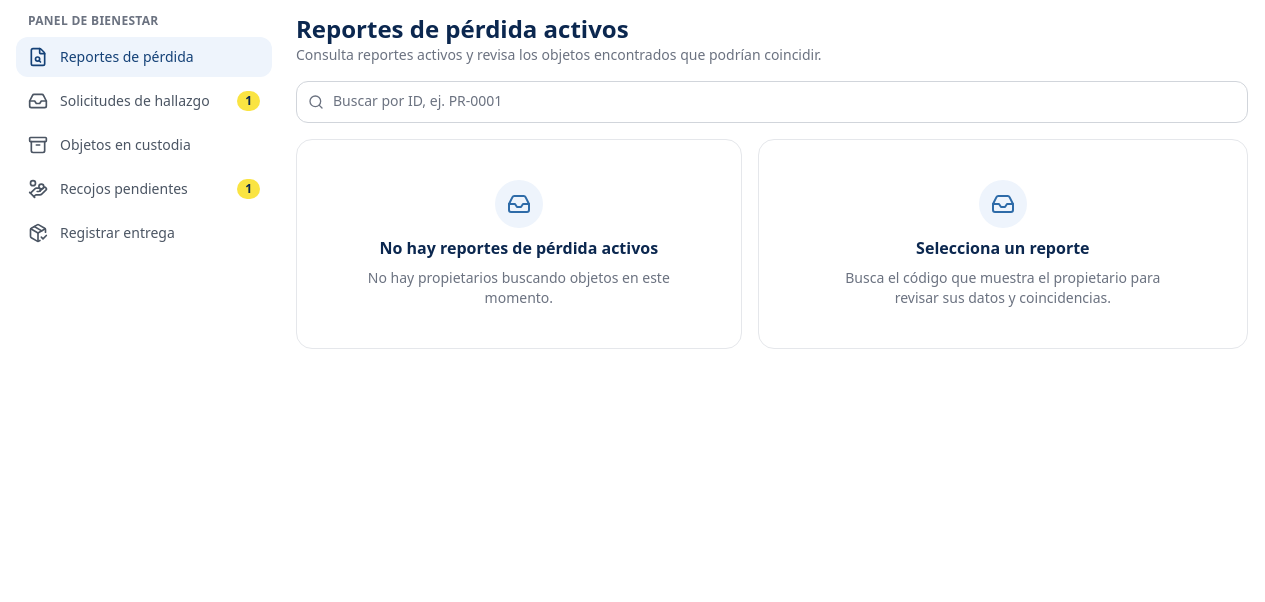
Scenario: Panel de Bienestar › inicia una entrega desde un recojo y precarga objeto reporte y propietario
Click the button "Recojos pendientes 1" at (144, 189), box [16, 169, 272, 209]
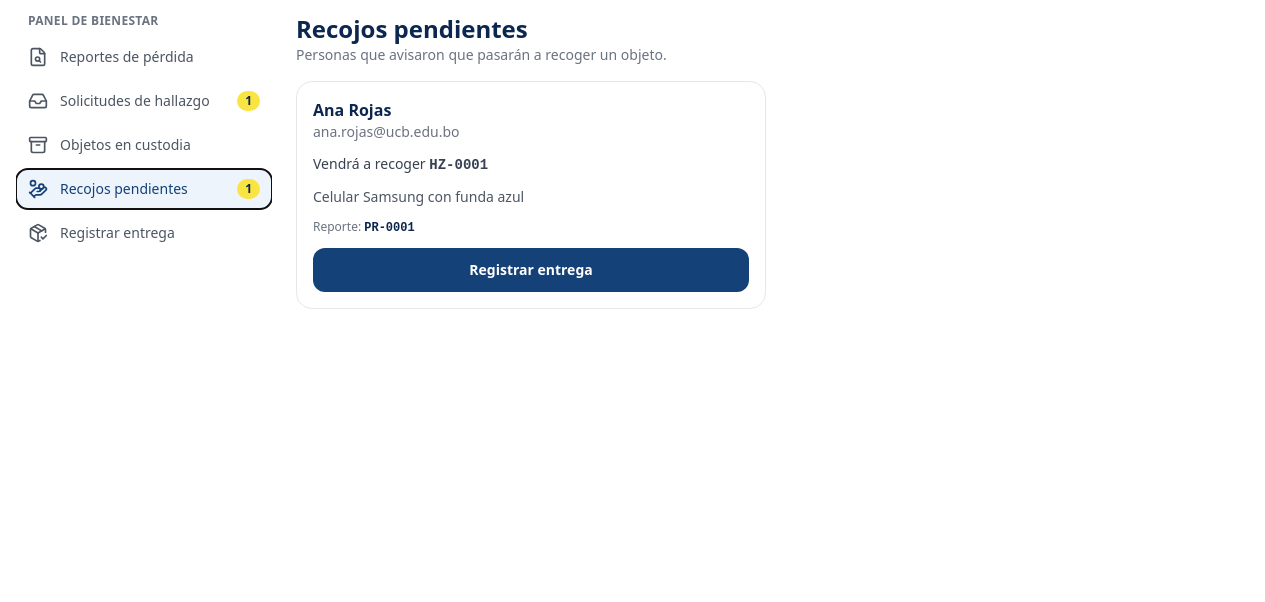
Click the button "Registrar entrega" below "Reporte:" at (531, 270), box [313, 248, 749, 292]
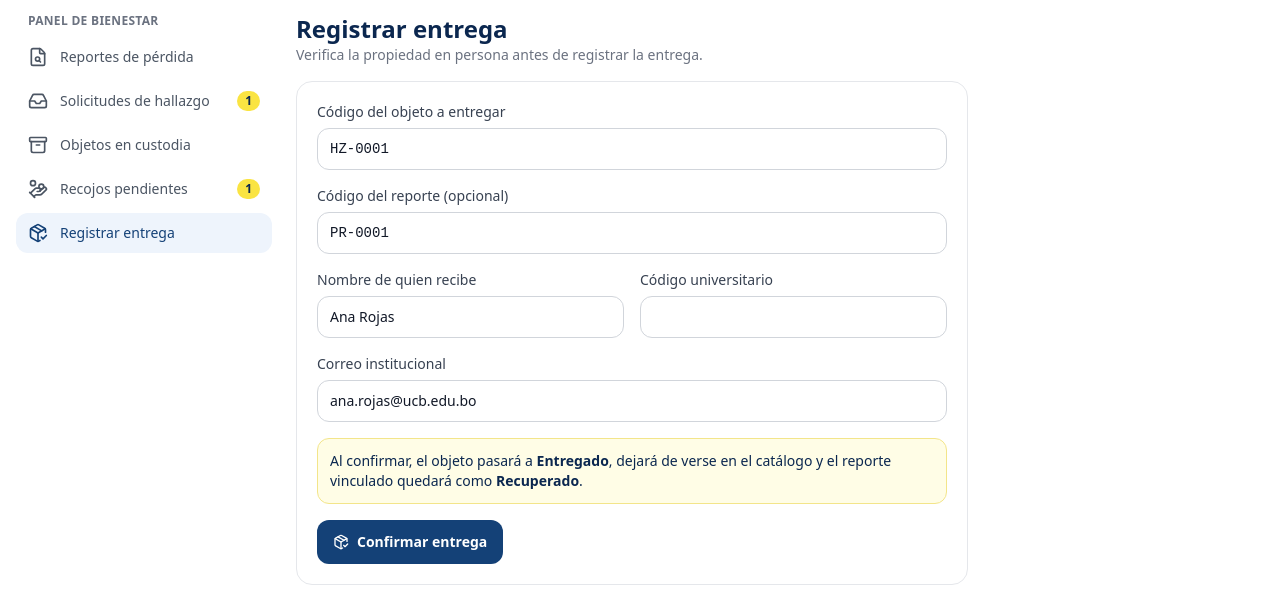
expect the field labelled "Código del objeto a entregar" holds "HZ-0001": met, box [317, 128, 947, 170]
expect the field labelled "Código del reporte (opcional)" holds "PR-0001": met, box [317, 212, 947, 254]
expect the field labelled "Nombre de quien recibe" holds "Ana Rojas": met, box [317, 296, 624, 338]
